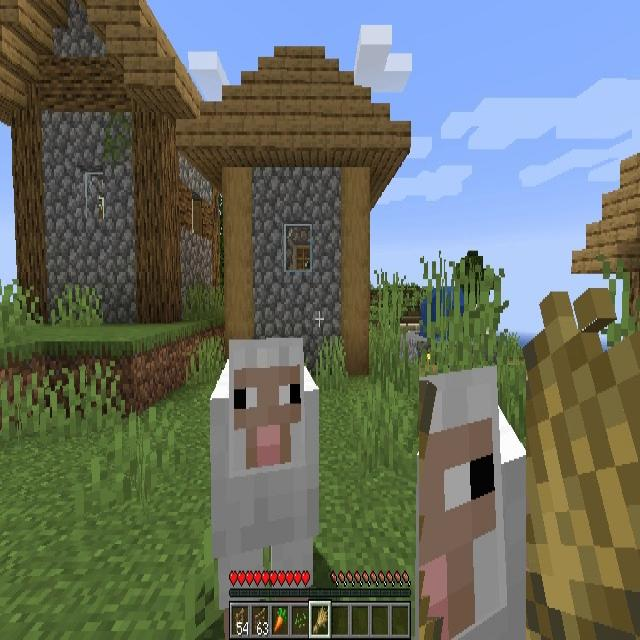sheep: (211, 341, 319, 640), (419, 365, 526, 640)
